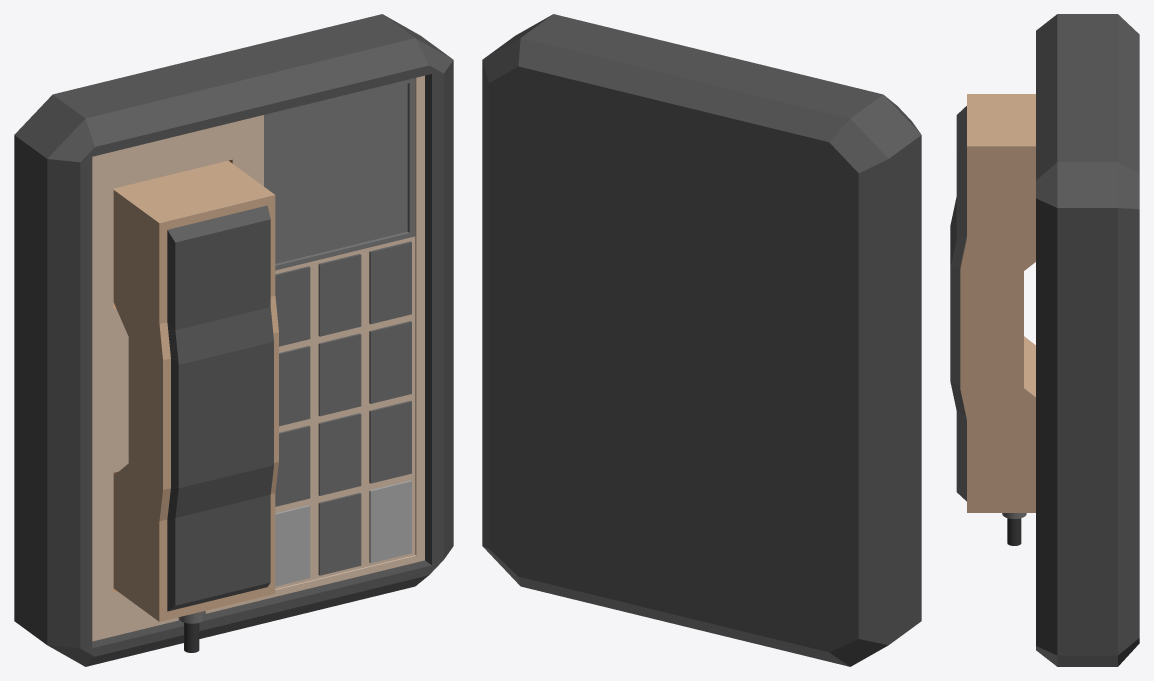
File: Wall Phone #2.fbx
3 renders of one model, left to right at view 1: azimuth 30°, elevation 25°; view 2: azimuth 150°, elevation 25°; view 3: azimuth 270°, elevation 25°, orthographic. The views are drawn at different scales.
Visible parts, largest first — view 1: Wall Phone #2; view 2: Wall Phone #2; view 3: Wall Phone #2.
Part boxes in pixels (x1,y1,x2,y2): Wall Phone #2: (14, 14, 453, 666); Wall Phone #2: (482, 14, 921, 666); Wall Phone #2: (950, 14, 1139, 666).
Bounding box in the file's own units: 27.75 × 35.77 × 12.14.
2 materials, 2 textured.
